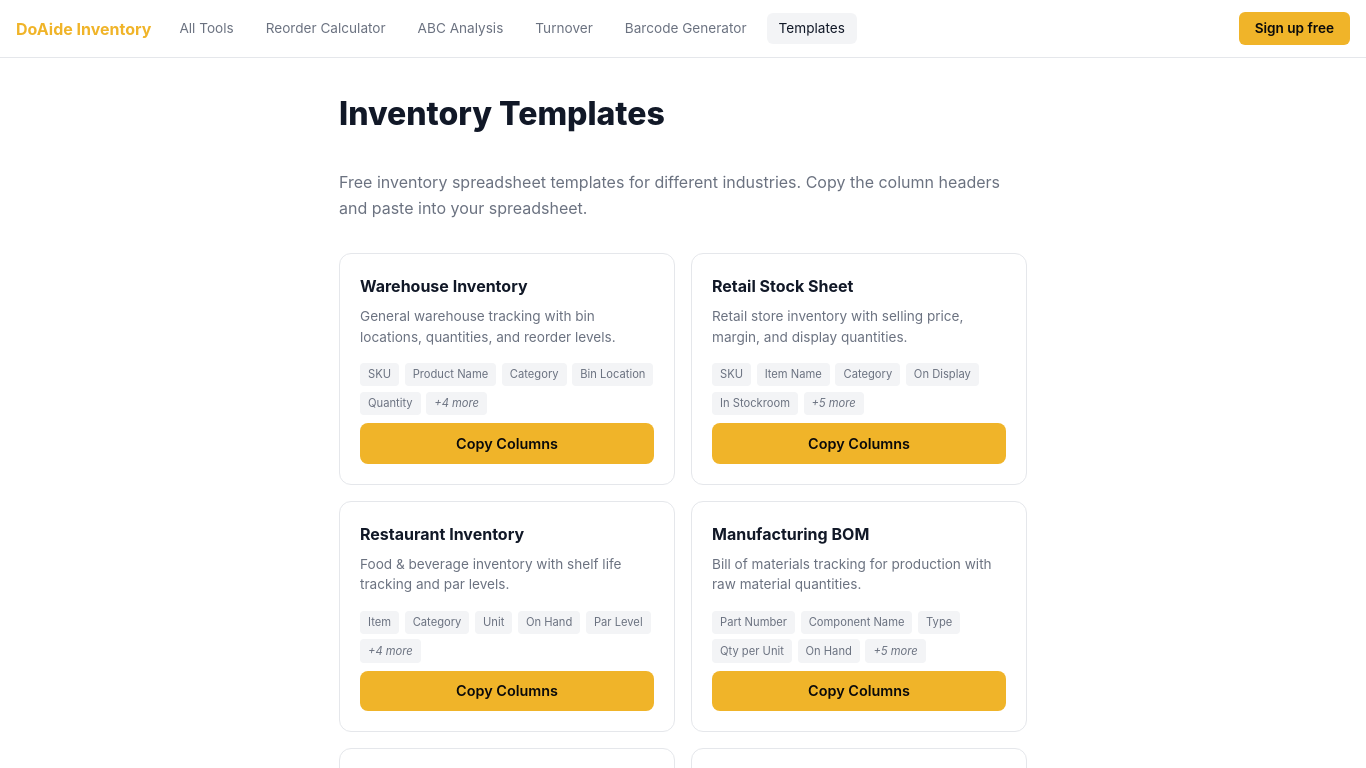
Scenario: TemplatesPage › copies columns when button is clicked
Step 1. Click the button "Copy Columns" below "Quantity" → (507, 444), box x1=360 y1=423 x2=654 y2=464
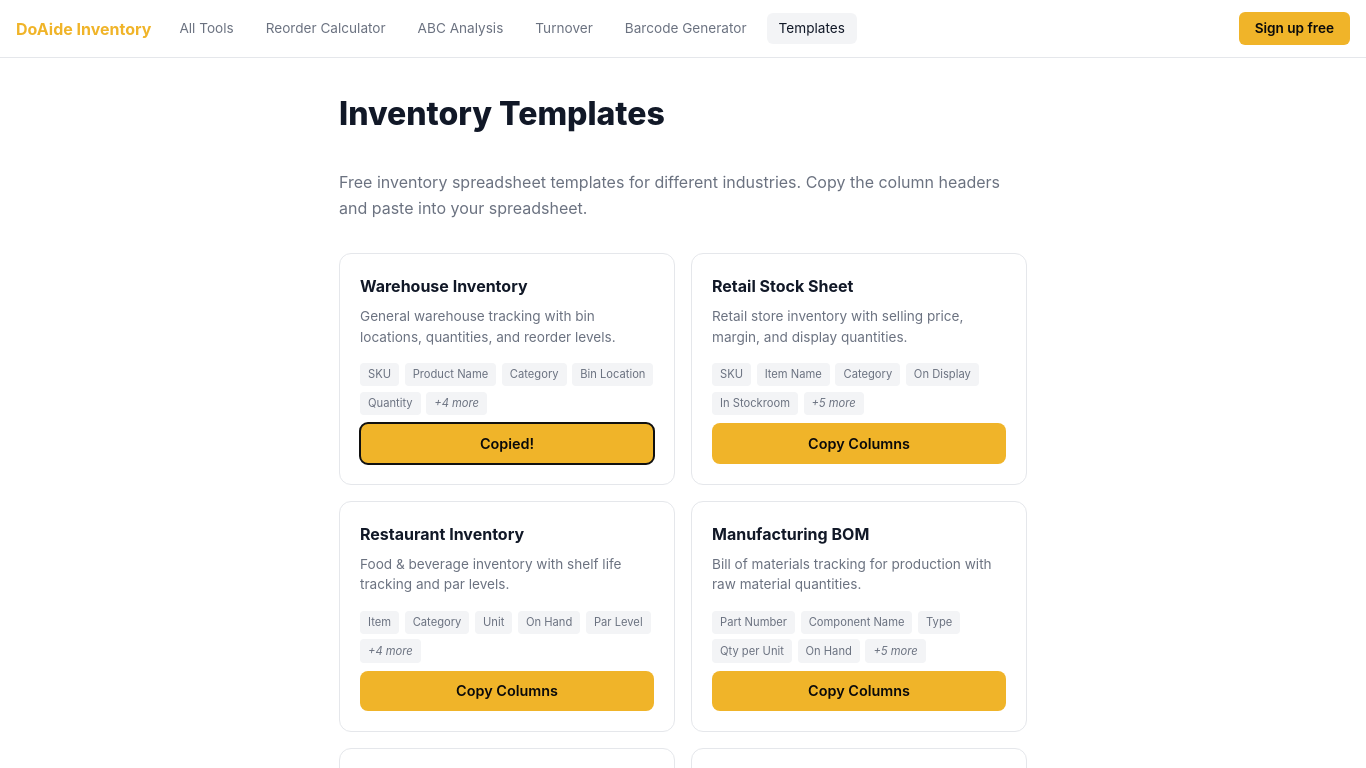
Expected: the button "Copied!" is shown, x1=360 y1=423 x2=654 y2=464
